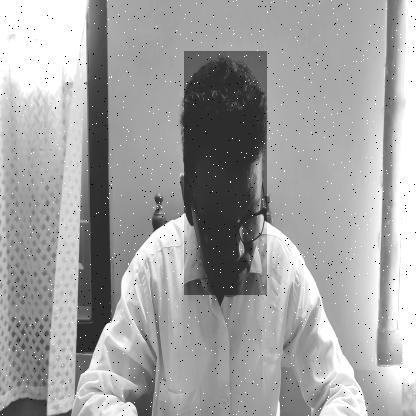Distracted: (184, 51, 267, 295)
